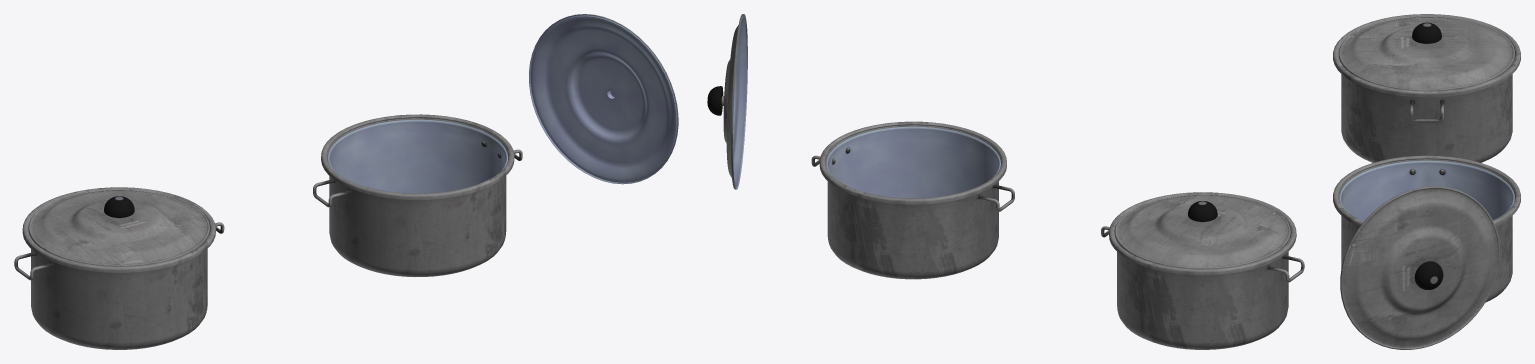
File: pot_kitchen_-_2mb.glb
3 views of the same model, side by side, from view 1: azimuth 30°, elevation 25°; view 2: azimuth 150°, elevation 25°; view 3: azimuth 270°, elevation 25° (orthographic). The views are drawn at different scales.
Parts seen in each view (by area): view 1: 01_3__0, 02_3__0, 01_2__0, 02__0; view 2: 01_3__0, 01_2__0, 02__0, 02_3__0; view 3: 02_3__0, 01_2__0, 02__0, 01_3__0.
Boxes of the visible parts, box(x1,y1,x2,y2) form: 01_3__0: box(313, 114, 522, 277); 02_3__0: box(529, 14, 678, 184); 01_2__0: box(14, 187, 224, 349); 02__0: box(28, 189, 209, 266); 01_3__0: box(811, 121, 1014, 279); 01_2__0: box(1101, 192, 1304, 349); 02__0: box(1114, 194, 1290, 268); 02_3__0: box(707, 14, 747, 189); 02_3__0: box(1340, 186, 1500, 349); 01_2__0: box(1333, 14, 1520, 162); 02__0: box(1339, 15, 1514, 90); 01_3__0: box(1333, 155, 1520, 302).
Bounding box in the file's own units: 1.55 × 0.4493 × 0.4242.
Materials: 1 (1 with a texture image).
